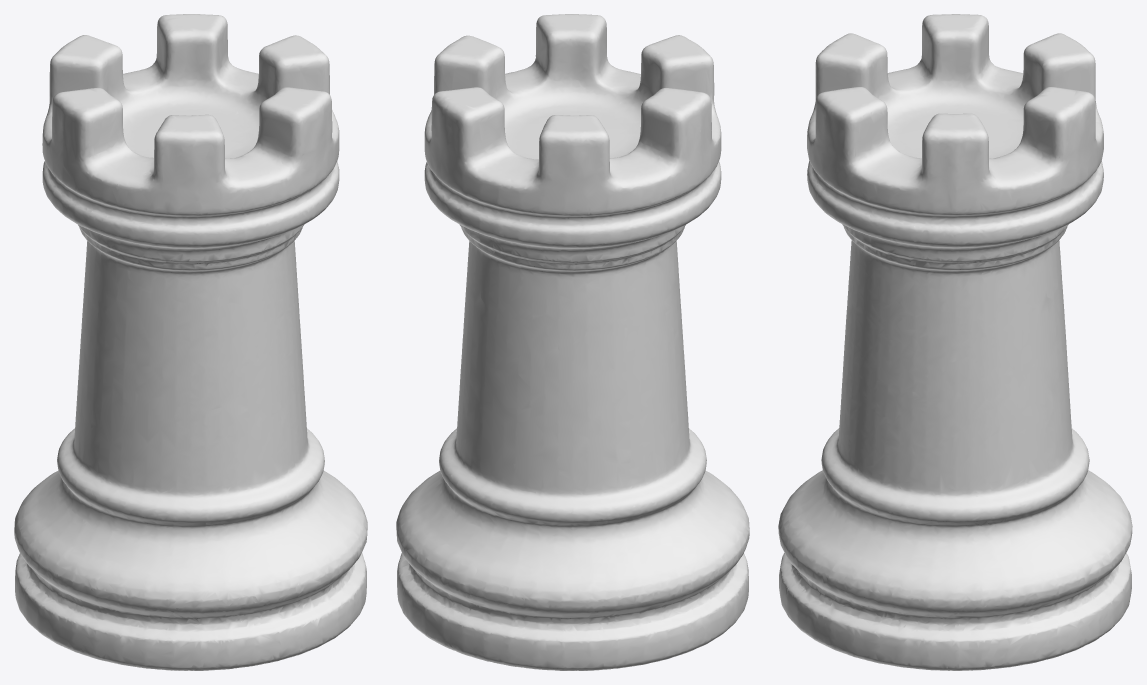
Rendered from knight_high.glb.
The picture shows the model from 3 angles, left to right: view 1: azimuth 30°, elevation 25°; view 2: azimuth 150°, elevation 25°; view 3: azimuth 270°, elevation 25°; orthographic projection.
Visible parts, largest first — view 1: geometry_0; view 2: geometry_0; view 3: geometry_0.
Part boxes in pixels (left/top/right/bottom): geometry_0: left=14, top=14, right=367, bottom=670; geometry_0: left=396, top=14, right=749, bottom=670; geometry_0: left=778, top=14, right=1132, bottom=670.
Bounding box in the file's own units: 0.6098 × 1 × 0.6102.
1 material, 1 textured.
